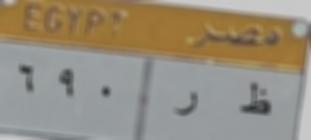0: (96, 77, 115, 104)
6: (15, 61, 37, 98)
9: (54, 68, 80, 106)
Thaa: (237, 78, 274, 122)
raa: (169, 86, 203, 121)
